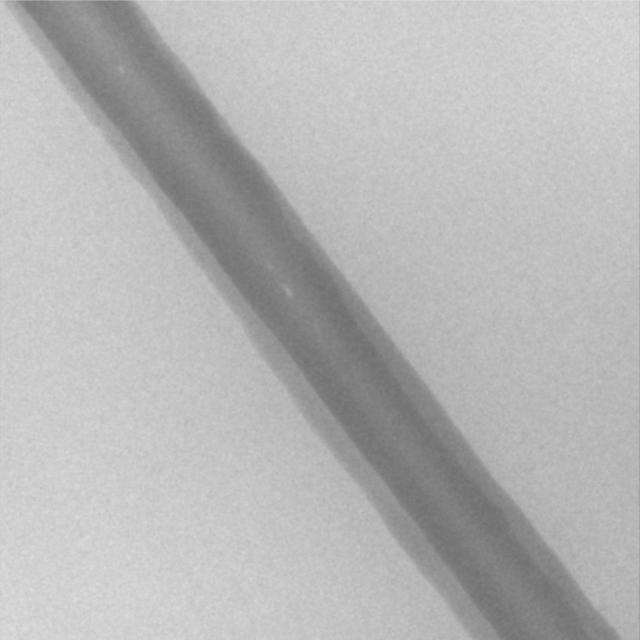air hole: (282, 282, 293, 300), (117, 64, 126, 75)
